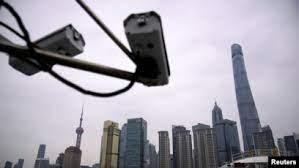tutu: (119, 5, 181, 97), (12, 20, 86, 83)
